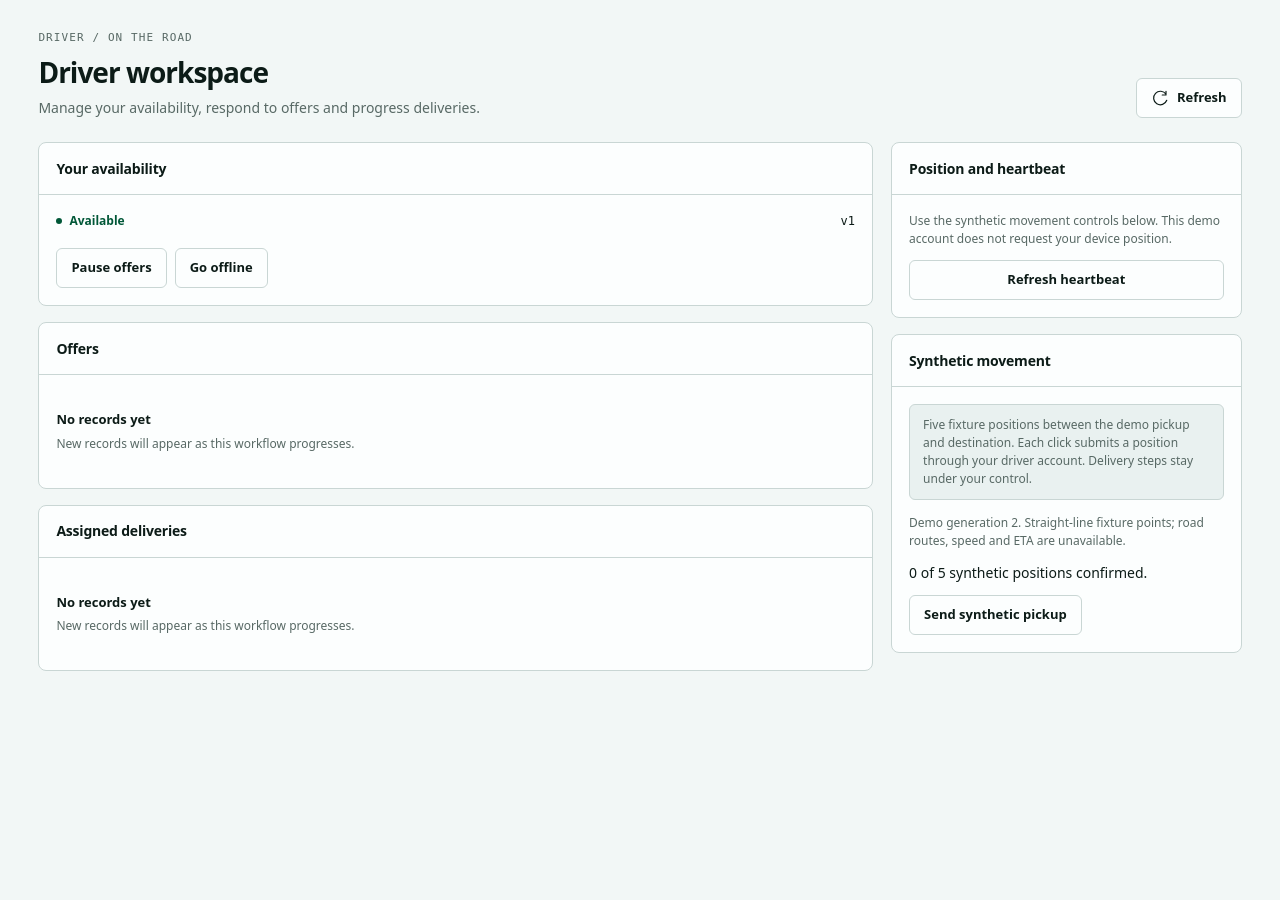
Test: driver position privacy › uses server-provided fixture coordinates without offering device GPS to a synthetic reviewer
The width and height of the screenshot is (1280, 900).
Check: the heading "Synthetic movement" is shown, box [909,351,1050,370]
Click the button "Send synthetic pickup". click: (995, 615)
box: [909,595,1082,635]
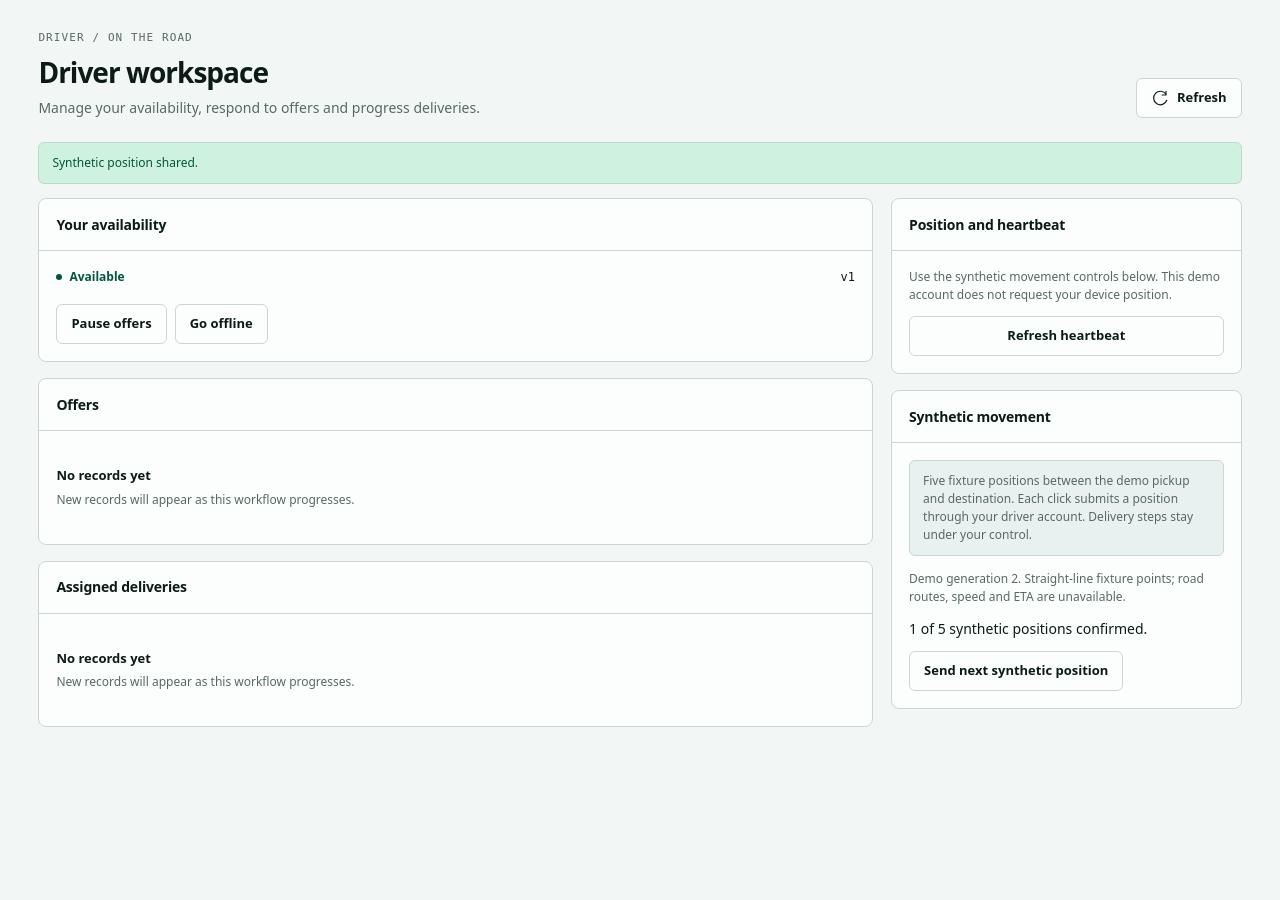
Check: the text "1 of 5 synthetic positions confirmed." is shown, box [909,619,1147,638]
